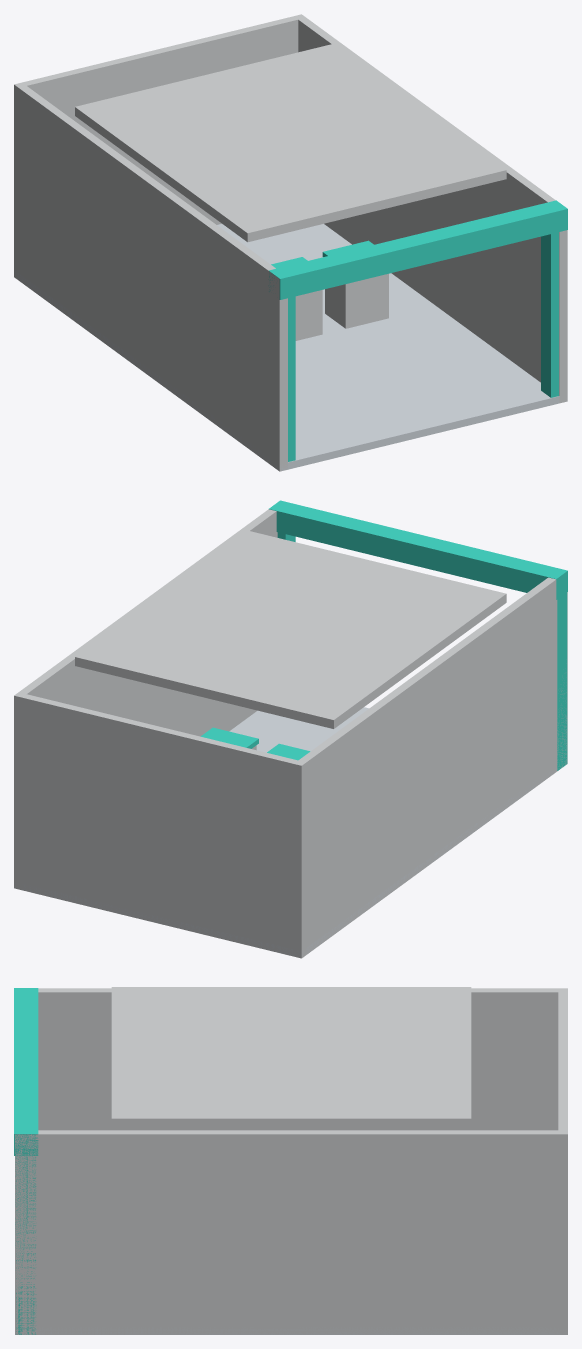
The picture shows the model from 3 angles, top to bottom: view 1: azimuth 30°, elevation 25°; view 2: azimuth 150°, elevation 25°; view 3: azimuth 270°, elevation 25°; orthographic projection. The views are drawn at different scales.
Visible parts, largest first — view 1: Exhibition Booth Concept; view 2: Exhibition Booth Concept; view 3: Exhibition Booth Concept.
Boxes of the visible parts, x1=… form: Exhibition Booth Concept: x1=14, y1=14, x2=567, y2=471; Exhibition Booth Concept: x1=14, y1=500, x2=567, y2=958; Exhibition Booth Concept: x1=14, y1=987, x2=567, y2=1334.
Bounding box in the file's own units: 5 × 3.34 × 8.01.
